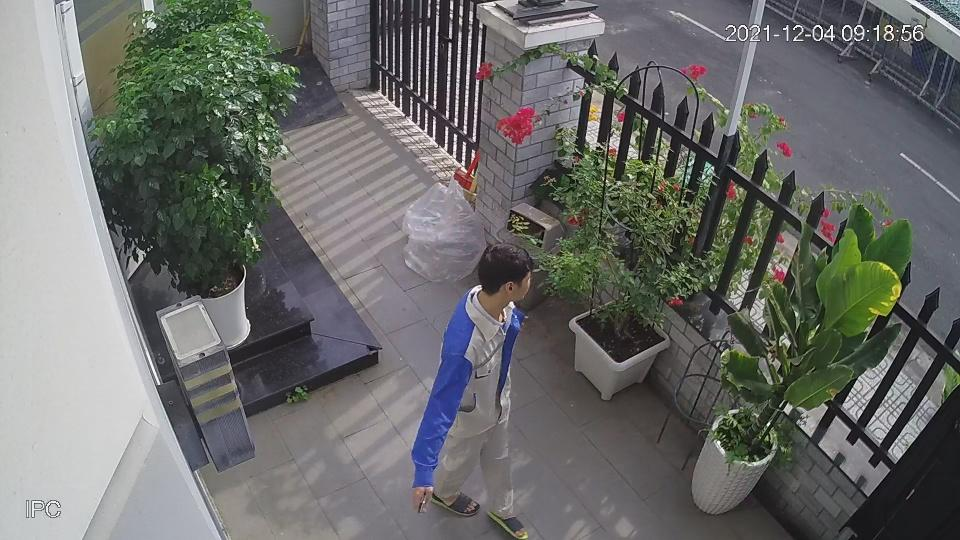person: (411, 241, 535, 540)
